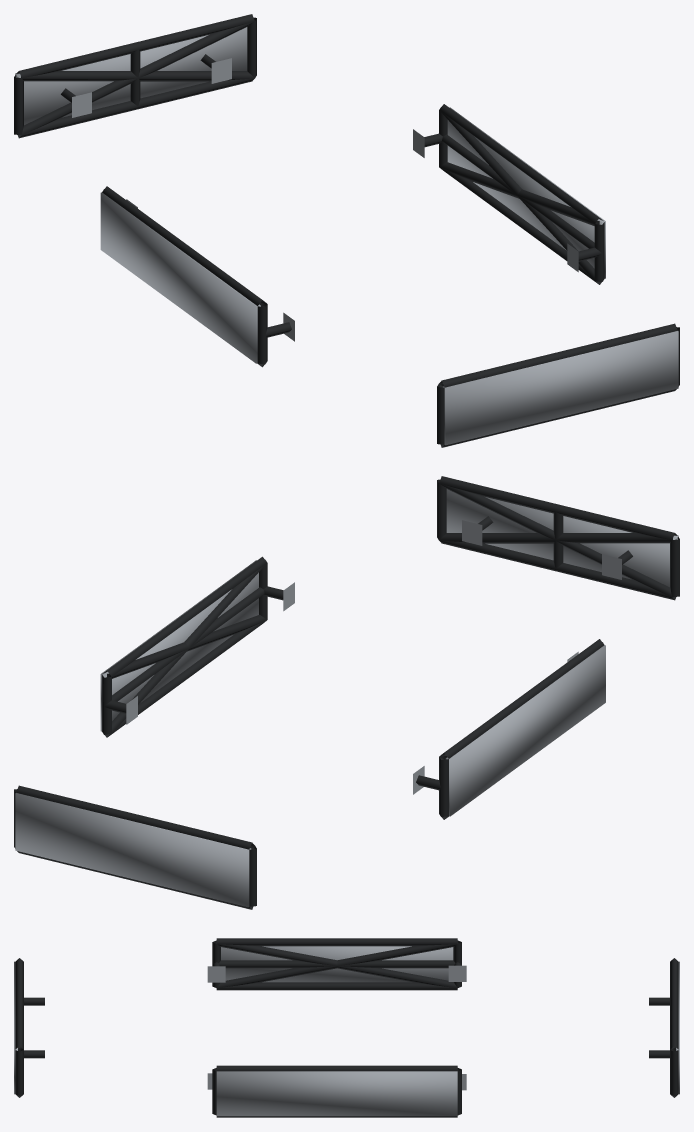
File: ridgeway_pitanga_protecao.glb
3 renders of one model, top to bottom at view 1: azimuth 30°, elevation 25°; view 2: azimuth 150°, elevation 25°; view 3: azimuth 270°, elevation 25°, orthographic. The views are drawn at different scales.
Parts seen in each view (by area): view 1: Protection_front_Level3_Details, Protection_left_Level3_Details, Protection_rear_Level1_Details, Protection_rear_Level3_Details, Protection_right_Level1_Details, Protection_rear_Level2_Details, Protection_right_Level2_Details, Protection_right_Level3_Details, Protection_front_Level1_Details, Protection_left_Level1_Details; view 2: Protection_rear_Level3_Details, Protection_left_Level3_Details, Protection_front_Level1_Details, Protection_front_Level3_Details, Protection_right_Level1_Details, Protection_front_Level2_Details, Protection_right_Level2_Details, Protection_right_Level3_Details, Protection_rear_Level1_Details, Protection_left_Level1_Details; view 3: Protection_right_Level3_Details, Protection_left_Level2_Details, Protection_left_Level1_Details, Protection_left_Level3_Details, Protection_right_Level1_Details, Protection_rear_Level1_Details, Protection_front_Level1_Details.
Boxes of the visible parts, left/top/right/bottom form: Protection_front_Level3_Details: left=442, top=331, right=678, bottom=445; Protection_left_Level3_Details: left=100, top=192, right=260, bottom=363; Protection_rear_Level1_Details: left=14, top=14, right=256, bottom=138; Protection_rear_Level3_Details: left=15, top=27, right=247, bottom=125; Protection_right_Level1_Details: left=413, top=104, right=604, bottom=284; Protection_rear_Level2_Details: left=16, top=21, right=254, bottom=136; Protection_right_Level2_Details: left=439, top=110, right=603, bottom=284; Protection_right_Level3_Details: left=447, top=107, right=605, bottom=278; Protection_front_Level1_Details: left=437, top=323, right=679, bottom=447; Protection_left_Level1_Details: left=102, top=186, right=294, bottom=367; Protection_rear_Level3_Details: left=15, top=793, right=251, bottom=907; Protection_left_Level3_Details: left=445, top=645, right=605, bottom=816; Protection_front_Level1_Details: left=437, top=476, right=679, bottom=600; Protection_front_Level3_Details: left=446, top=489, right=678, bottom=587; Protection_right_Level1_Details: left=102, top=556, right=294, bottom=737; Protection_front_Level2_Details: left=439, top=483, right=677, bottom=598; Protection_right_Level2_Details: left=103, top=563, right=266, bottom=737; Protection_right_Level3_Details: left=100, top=560, right=258, bottom=731; Protection_rear_Level1_Details: left=14, top=785, right=256, bottom=909; Protection_left_Level1_Details: left=413, top=639, right=604, bottom=819; Protection_right_Level3_Details: left=216, top=1071, right=457, bottom=1116; Protection_left_Level2_Details: left=216, top=941, right=458, bottom=988; Protection_left_Level1_Details: left=207, top=938, right=466, bottom=990; Protection_left_Level3_Details: left=221, top=946, right=453, bottom=982; Protection_right_Level1_Details: left=207, top=1065, right=466, bottom=1117; Protection_rear_Level1_Details: left=649, top=958, right=678, bottom=1097; Protection_front_Level1_Details: left=15, top=958, right=44, bottom=1097.
Bounding box in the file's own units: 1.92 × 0.354 × 4.09.
1 material, 1 textured.
